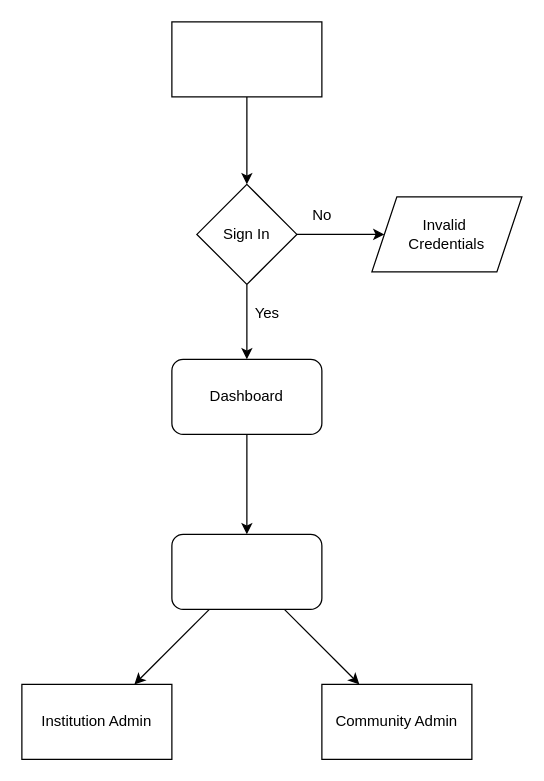
The diagram is 544 pixels wide and 781 high, and some of its shapes have lost their labels. The shapes that lost their labels are listed below. From the top down, each one's centre as x and y in pixels, then its label:
At point 246,59: "Admin".
At point 246,571: "Give roles to".
